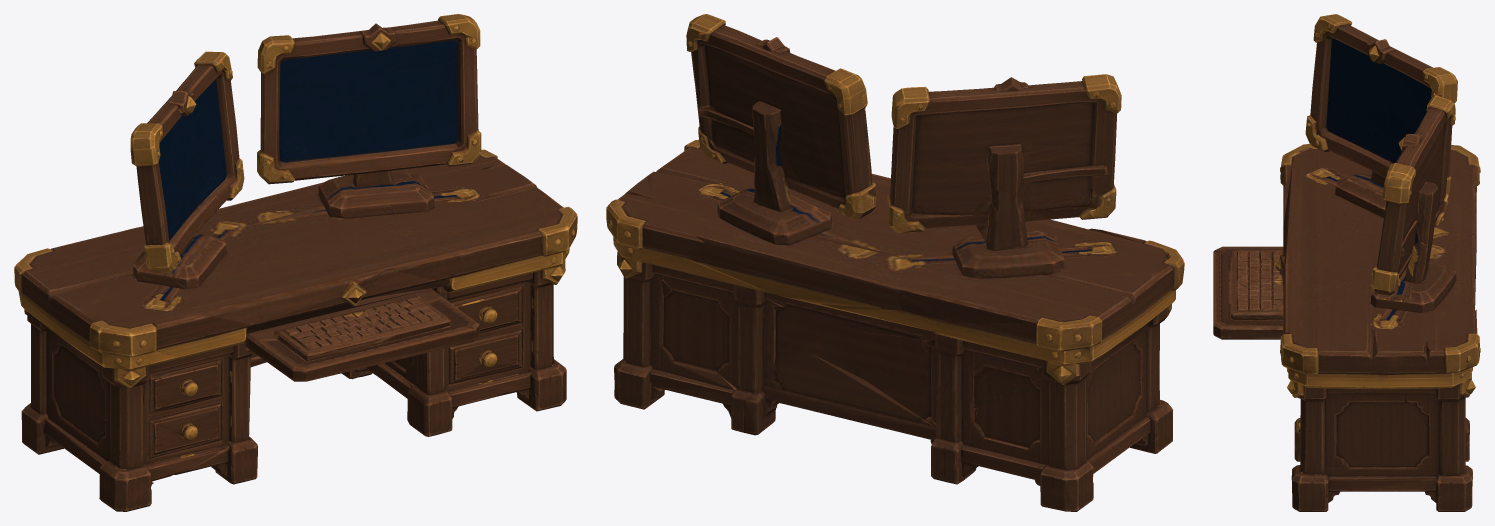
Rendered from workbench-frontend.glb.
3 renders of one model, left to right at view 1: azimuth 30°, elevation 25°; view 2: azimuth 150°, elevation 25°; view 3: azimuth 270°, elevation 25°, orthographic. The views are drawn at different scales.
Visible parts, largest first — view 1: output_unwrapped; view 2: output_unwrapped; view 3: output_unwrapped.
Part boxes in pixels (box(x1,y1,x2,y2)): output_unwrapped: box(14, 14, 577, 511); output_unwrapped: box(606, 14, 1184, 511); output_unwrapped: box(1213, 14, 1480, 511).
Bounding box in the file's own units: 1.9 × 1.36 × 1.02.
1 material, 1 textured.
